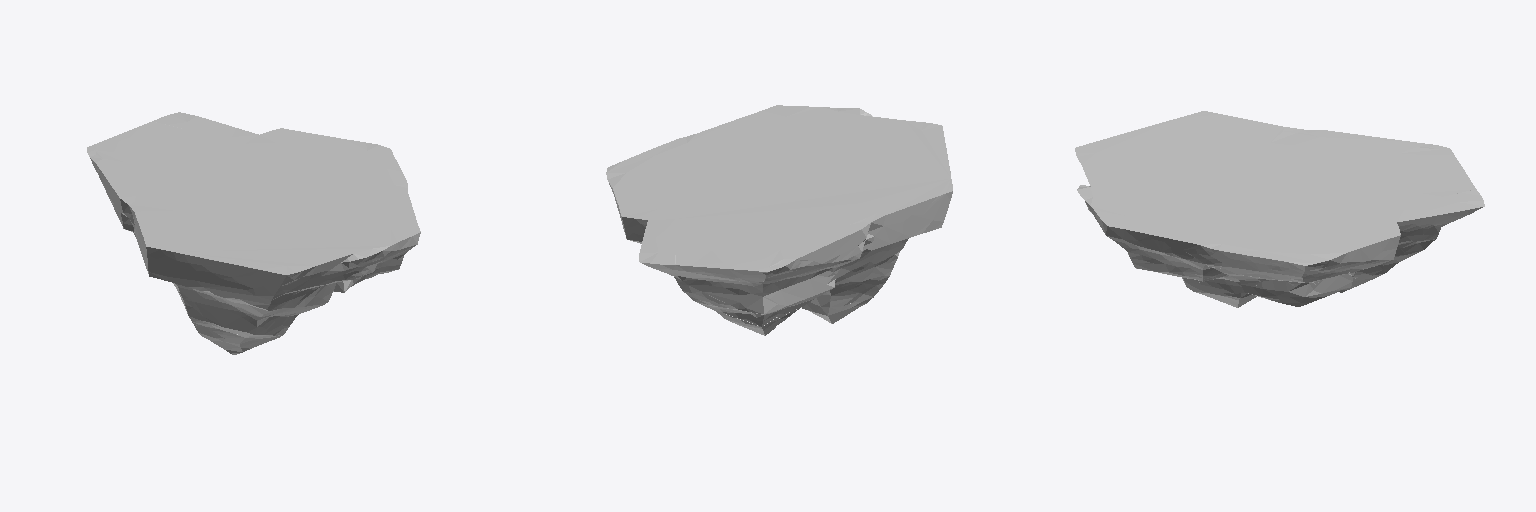
The model's file is island.obj.
3 views of the same model, side by side, from view 1: azimuth 30°, elevation 25°; view 2: azimuth 150°, elevation 25°; view 3: azimuth 270°, elevation 25° (orthographic).
Visible parts, largest first — view 1: obj_0; view 2: obj_0; view 3: obj_0.
Part boxes in pixels (x1,y1,x2,y2): obj_0: (87,112,420,354); obj_0: (606,105,952,335); obj_0: (1075,111,1484,307).
Bounding box in the file's own units: 70.95 × 33.67 × 85.37.